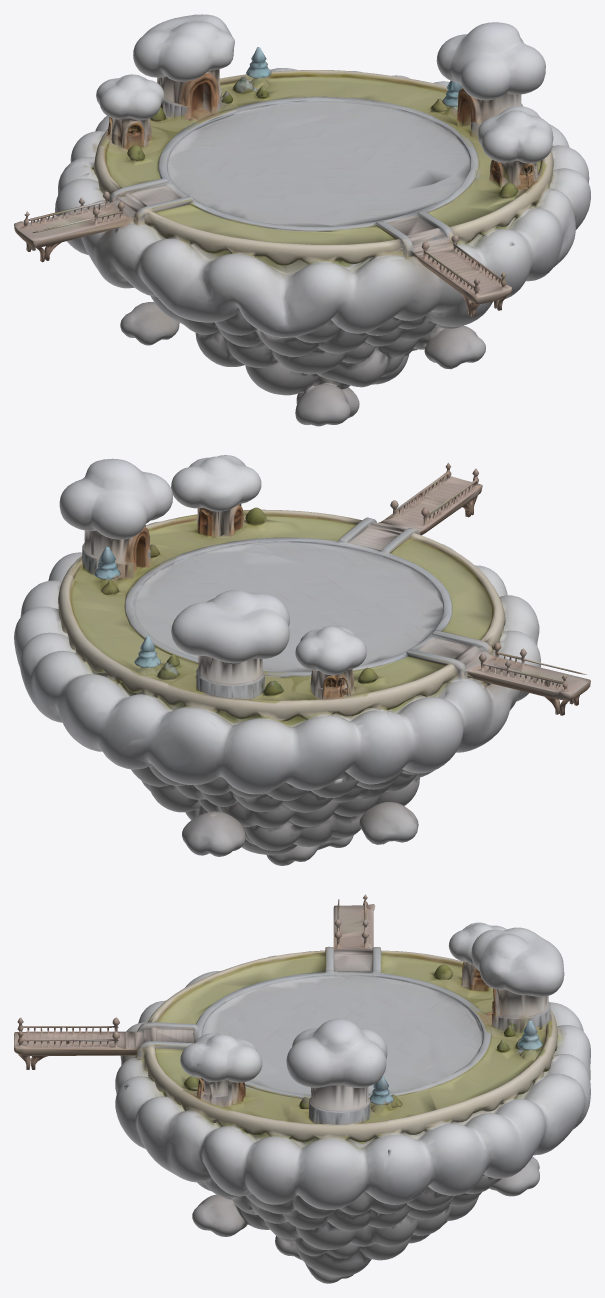
File: cloud-ground-1.glb
3 renders of one model, top to bottom at view 1: azimuth 30°, elevation 25°; view 2: azimuth 150°, elevation 25°; view 3: azimuth 270°, elevation 25°, orthographic. The views are drawn at different scales.
Visible parts, largest first — view 1: node_0; view 2: node_0; view 3: node_0.
Part boxes in pixels (box(x1,y1,x2,y2)): node_0: box(14, 14, 590, 426); node_0: box(14, 455, 590, 865); node_0: box(14, 894, 590, 1283).
Bounding box in the file's own units: 1.13 × 0.7154 × 1.13.
Materials: 1 (1 with a texture image).
